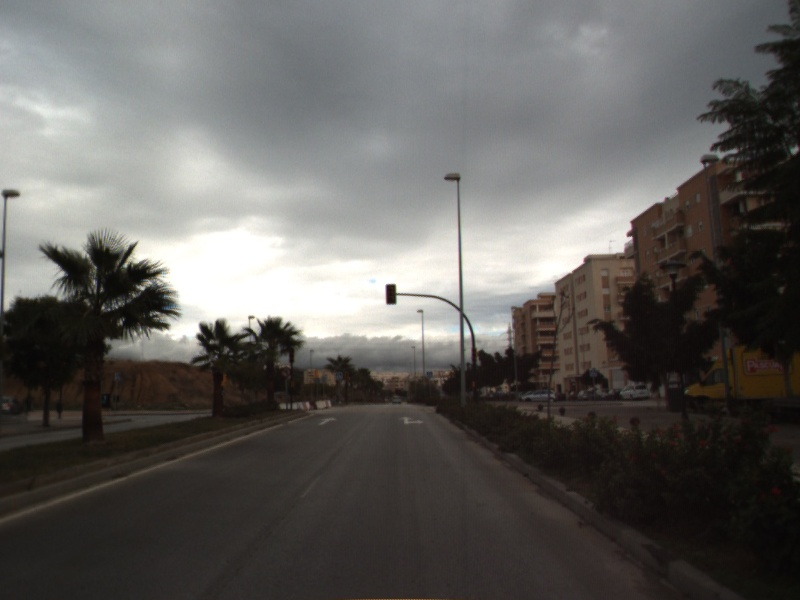STRAIGHT: (316, 415, 339, 427)
STRAIGHT_RIGHT: (397, 414, 426, 426)
